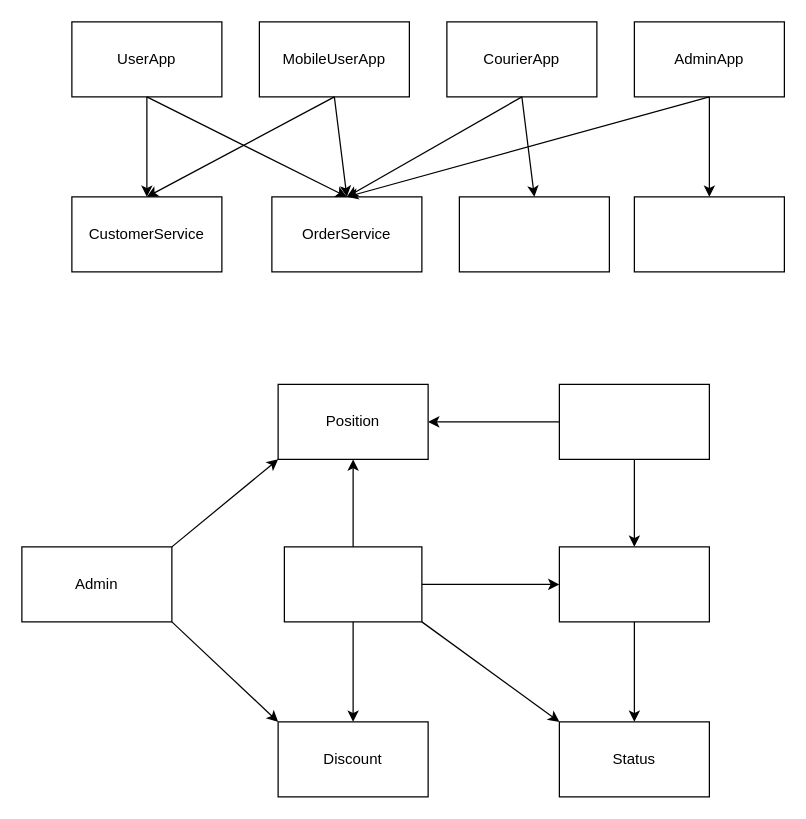
Some shapes in this 806 by 819 pixel diagram are drawn without their labels. Here are the shapes that lost their labels. From the top down, the centre of each, then its label:
(533,234): CourierService
(708,234): AdminService
(633,421): Courier
(352,584): Customer
(633,584): Order
